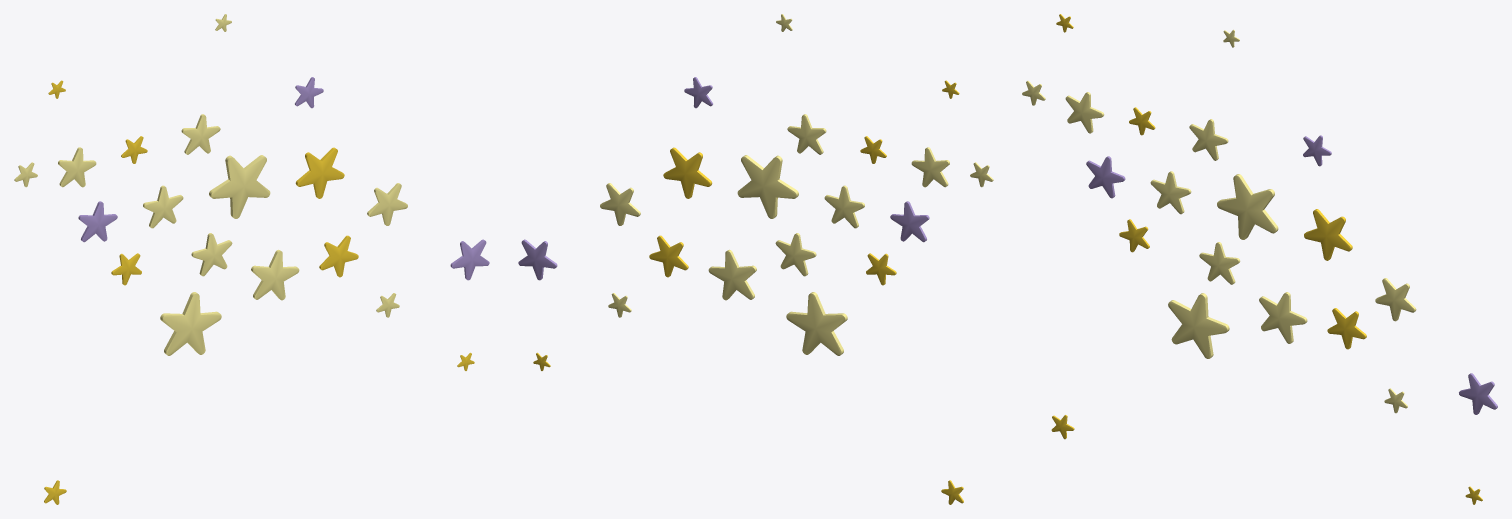
File: milky_way.gltf
3 renders of one model, left to right at view 1: azimuth 30°, elevation 25°; view 2: azimuth 150°, elevation 25°; view 3: azimuth 330°, elevation 25°, orthographic.
Visible parts, largest first — view 1: Circle.2507; view 2: Circle.2507; view 3: Circle.2507.
Boxes of the visible parts, <box> form: Circle.2507: <box>14,14,489,504</box>; Circle.2507: <box>518,14,993,504</box>; Circle.2507: <box>1022,14,1497,504</box>.
Bounding box in the file's own units: 2.02 × 1.83 × 0.0455.
Materials: 1 (1 with a texture image).
